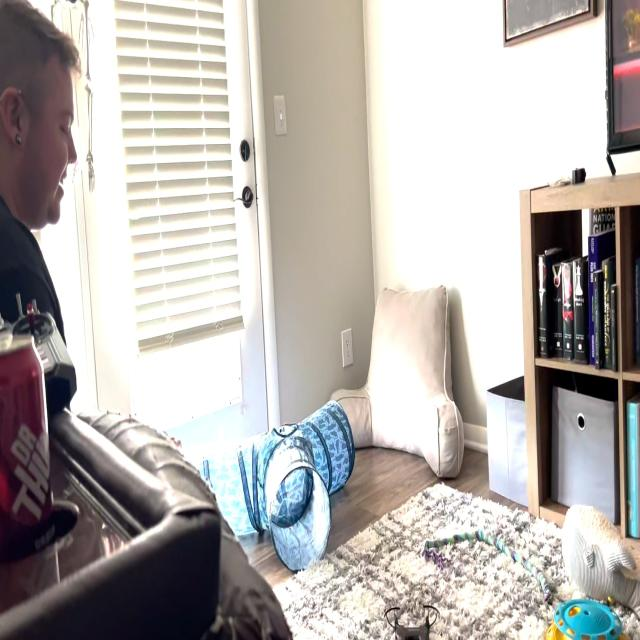drone: (380, 590, 443, 640)
